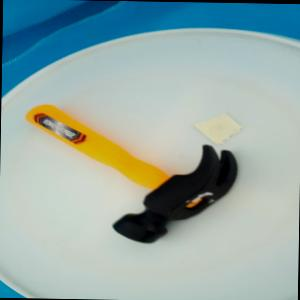martelo: (19, 102, 240, 244)
